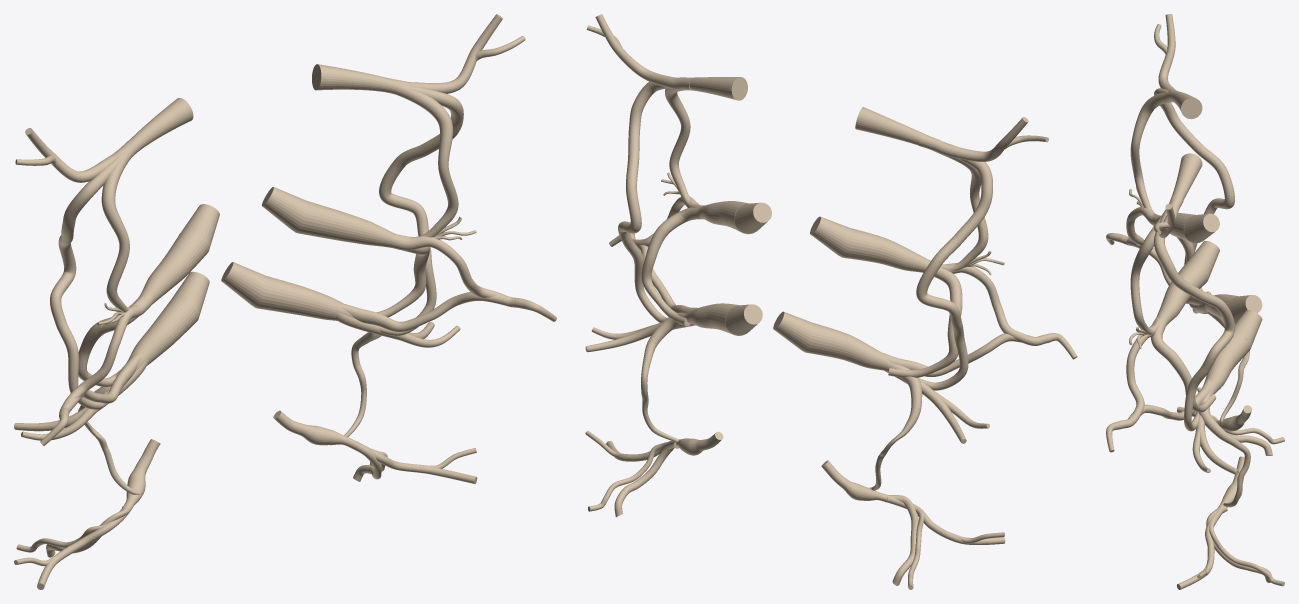
File: SpinalNerves5.glb
The picture shows the model from 3 angles, left to right: view 1: azimuth 30°, elevation 25°; view 2: azimuth 150°, elevation 25°; view 3: azimuth 270°, elevation 25°; orthographic projection. The views are drawn at different scales.
Visible parts, largest first — view 1: Cervical Plexus; view 2: Cervical Plexus; view 3: Cervical Plexus.
Boxes of the visible parts, bbox=[...] form: Cervical Plexus: bbox=[14, 14, 556, 589]; Cervical Plexus: bbox=[585, 14, 1077, 589]; Cervical Plexus: bbox=[1106, 14, 1284, 589].
Bounding box in the file's own units: 65.77 × 59.88 × 23.63.
